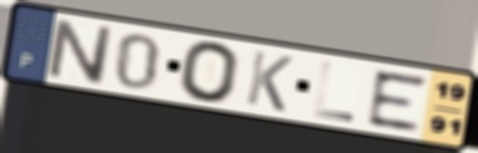0: (114, 31, 165, 91)
E: (366, 68, 430, 133)
K: (242, 47, 296, 114)
L: (311, 59, 357, 124)
N: (45, 16, 115, 87)
O: (177, 39, 242, 105)
